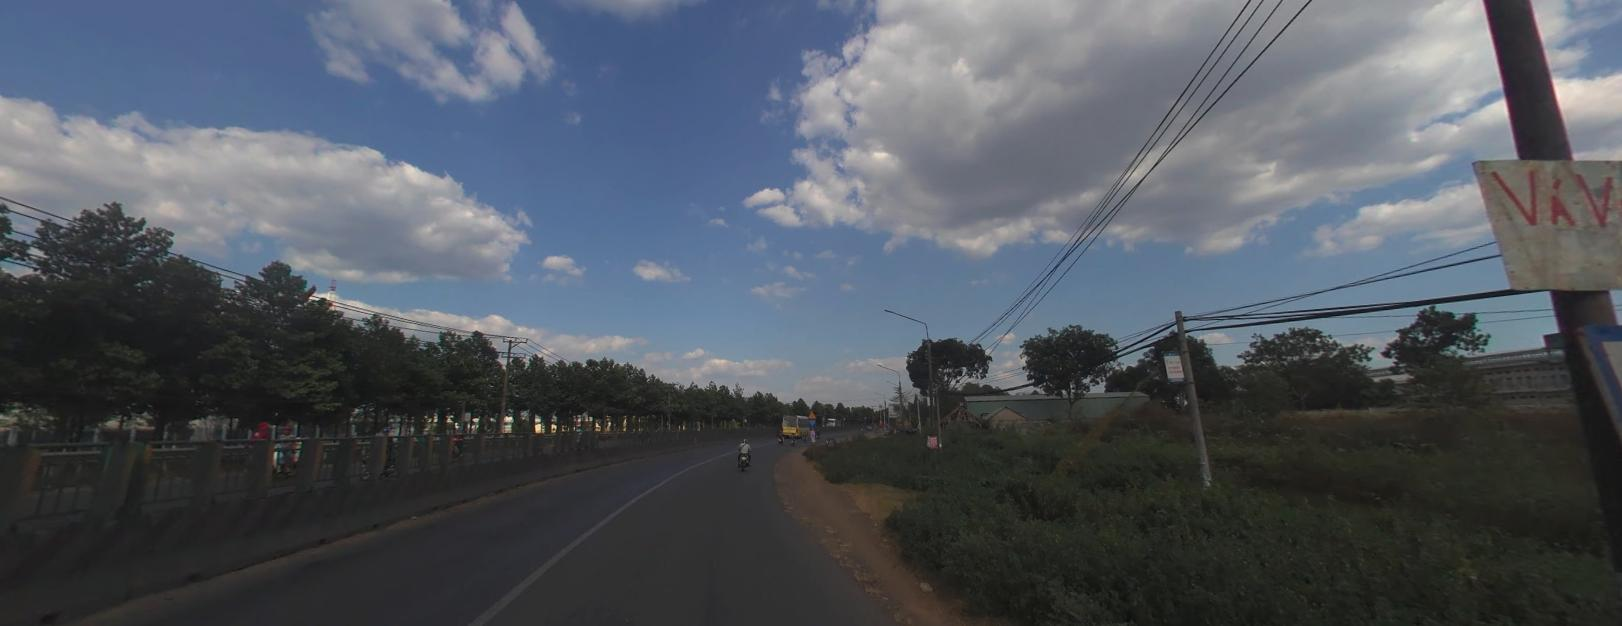Nguy hiem: (807, 408, 816, 417)
